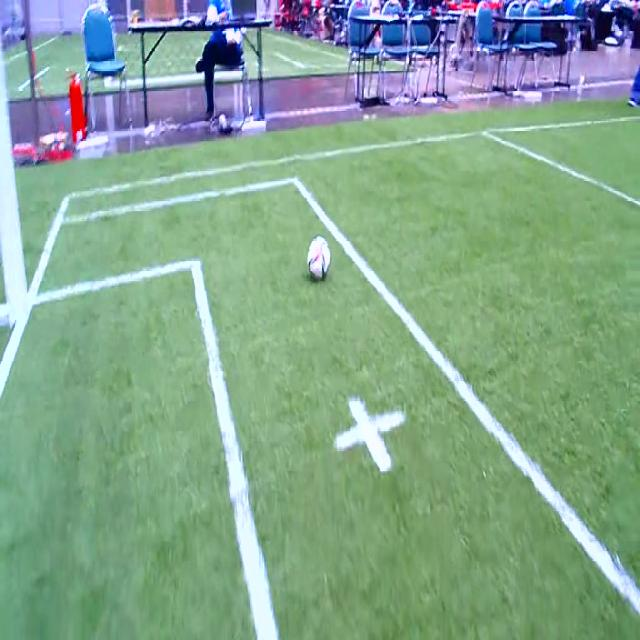ball: (308, 236, 330, 280)
